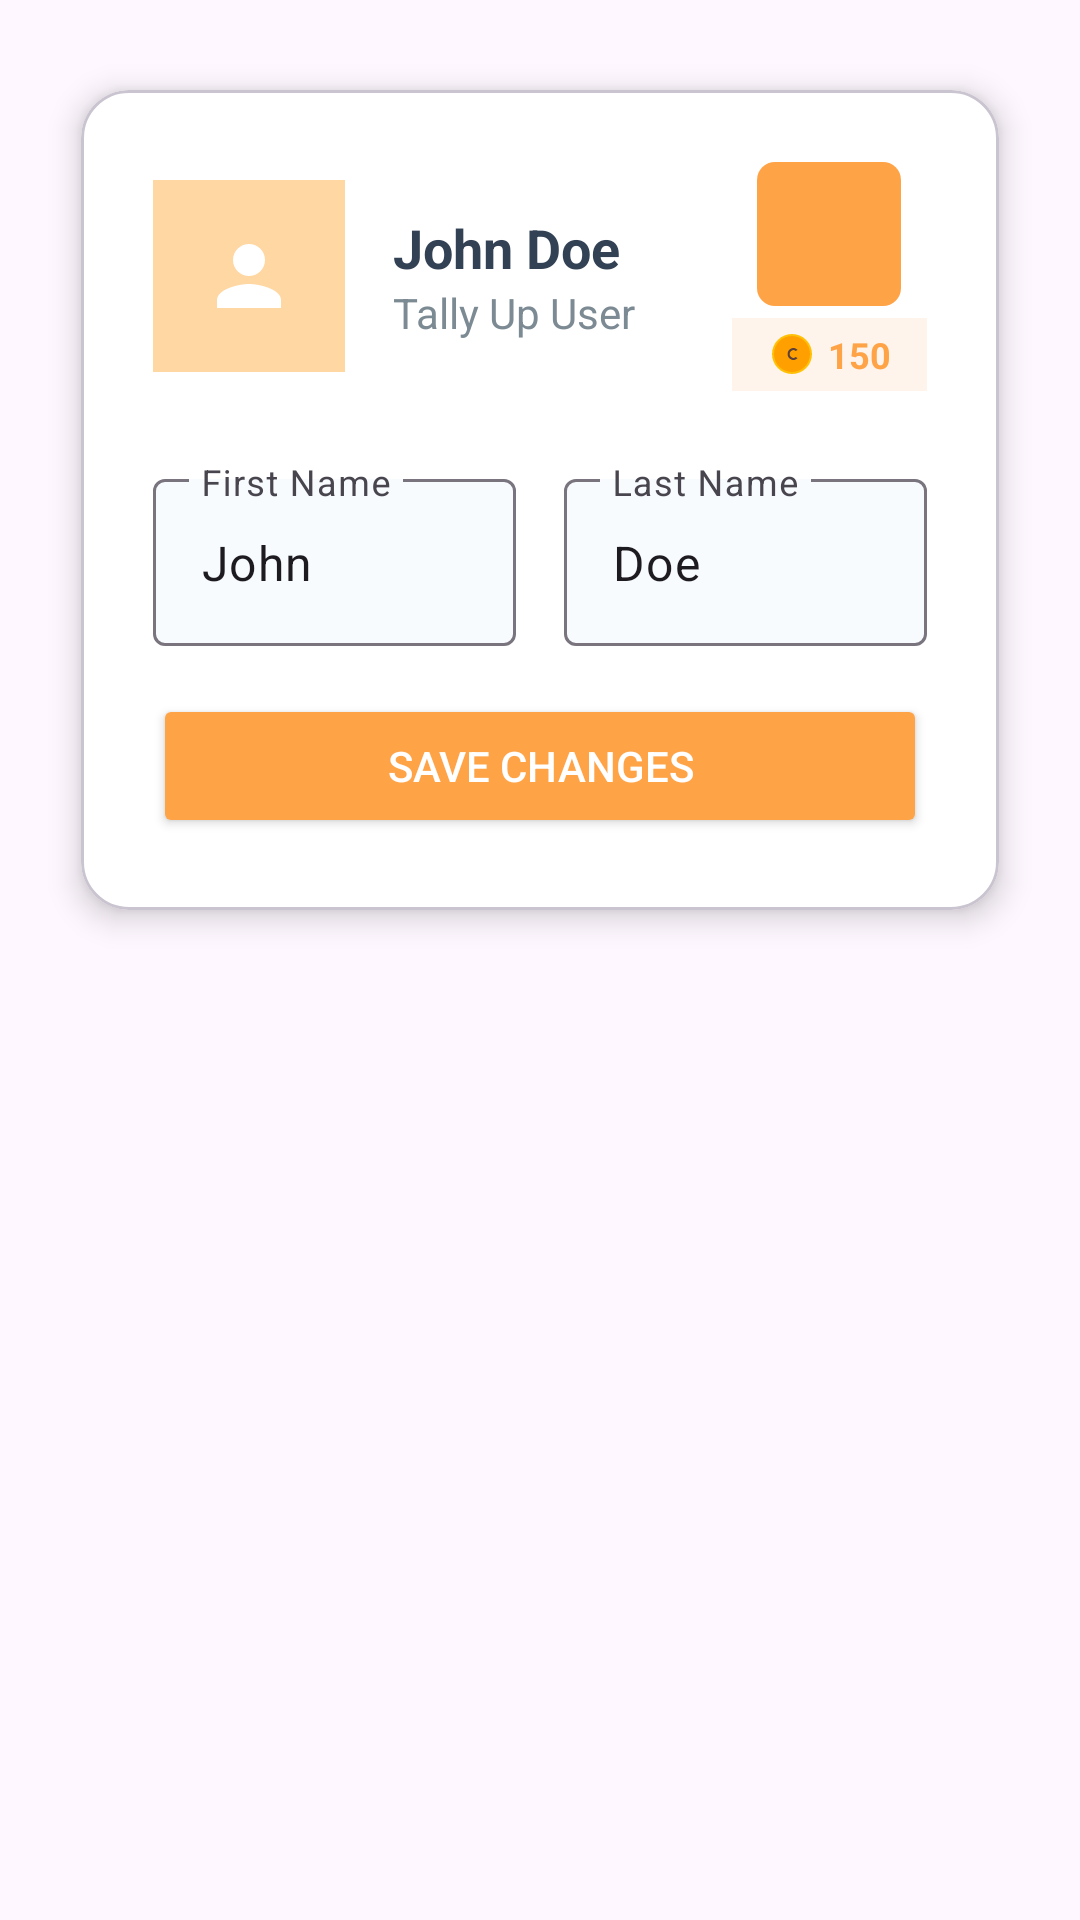

Icons on this 1080 x 1920 Android screen, each with its box as box(x1, y1, x2, y2):
Coins: box(772, 334, 812, 374)
Profile: box(153, 180, 345, 372)
